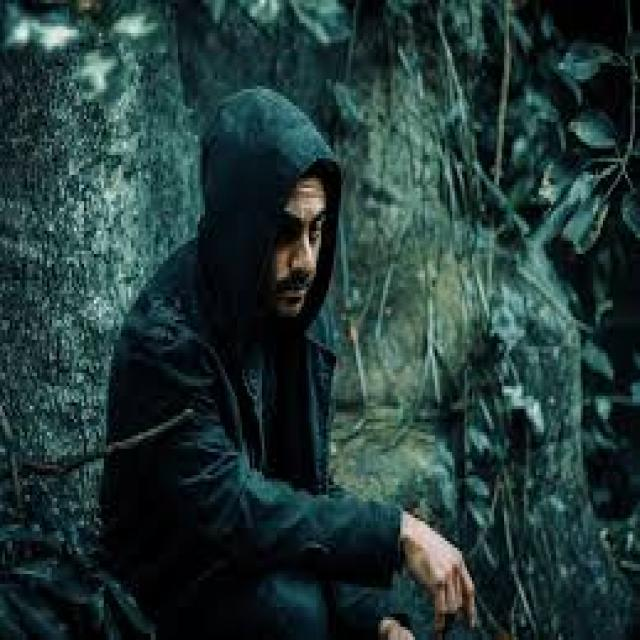4_capucha: (194, 85, 342, 342)
